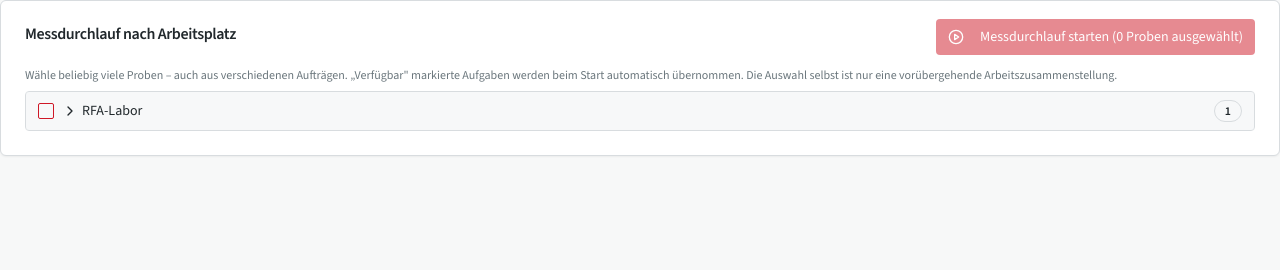
Scenario: MeasurementRunPicker – Tabelle, Beschreibung, direkte Navigation & Suche › zeigt bei Aufgaben ohne Probe '–' für Nummer/Name/Beschreibung und erlaubt direkte Bearbeitung
The width and height of the screenshot is (1280, 270).
Later steps or results of the test are not shown.
Click the button "RFA-Labor": (112, 110) [62,101,1206,121]
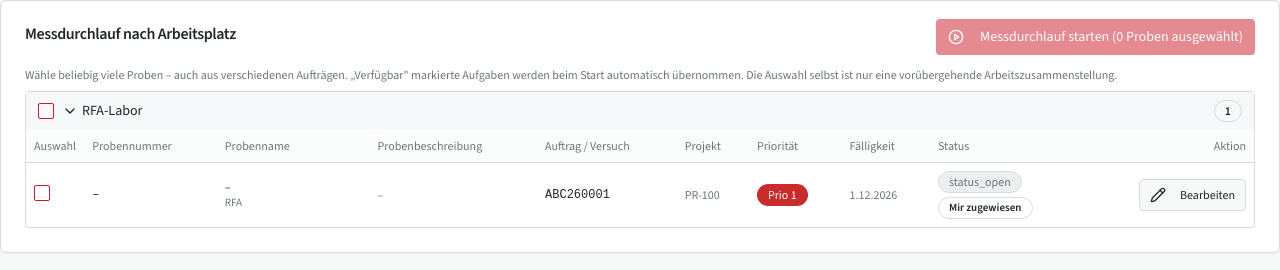
Now the 1st cell "–" is shown, box [84,162,217,226]
Now the cell "– RFA" is shown, box [217,162,369,226]
Now the 2nd cell "–" is shown, box [369,162,537,226]
